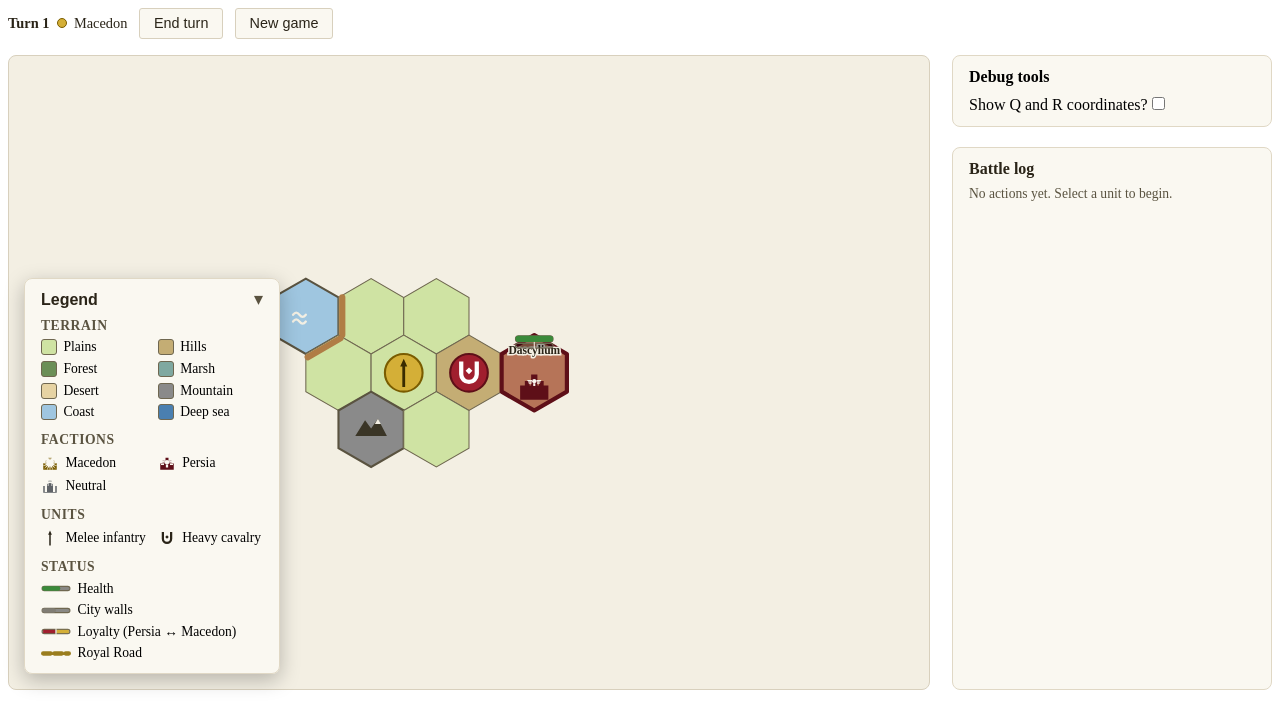
Test: PlayBoard intent flow against mocked Server Actions › ends the turn and advances the bar when no unit has moves left
Click the button "End turn": (181, 23) [139,8,223,39]
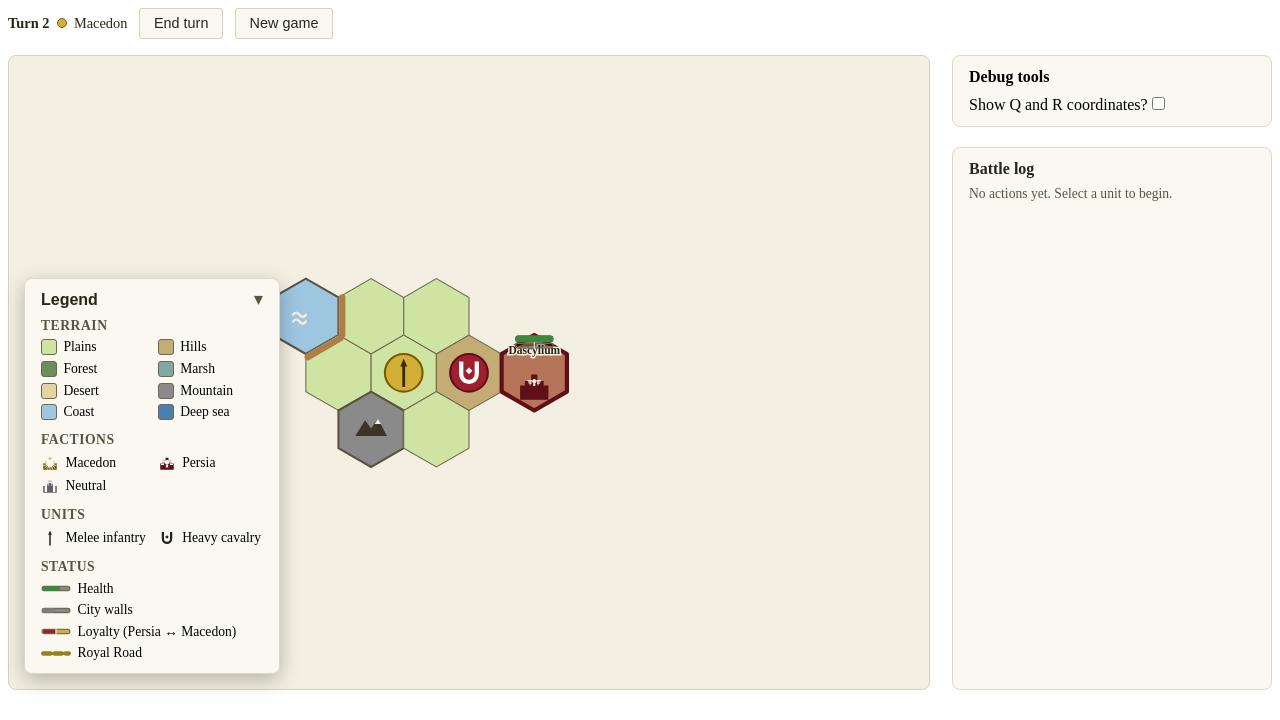
Check: the text "Turn 2" is shown, box [8,15,50,32]
